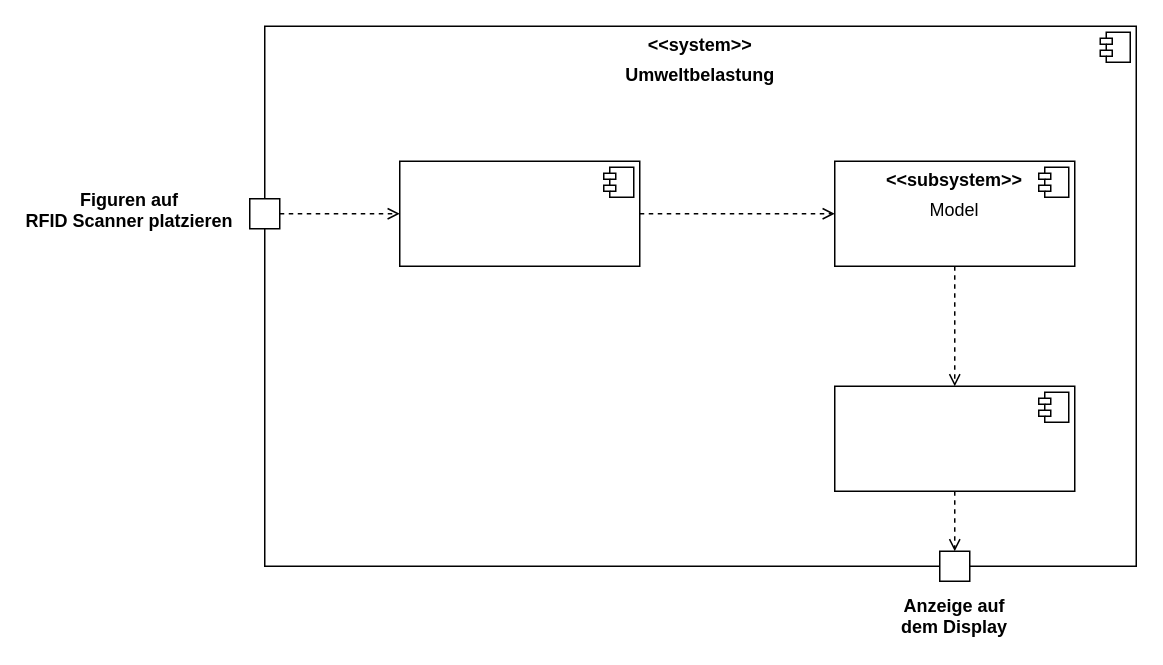
This 1163x665 diagram has some shape labels left out. Here are the shapes that lost their labels. From the top down, the centre of each, then its label:
point (519, 213): <<subsystem>> Controller
point (954, 438): <<subsystem>> View
